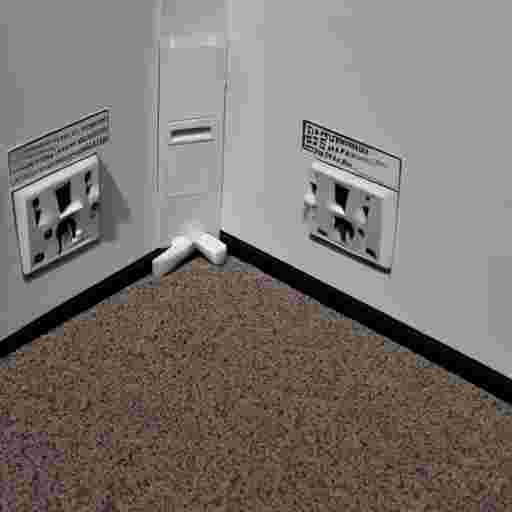power outlet: (303, 160, 397, 272), (13, 155, 100, 274)
